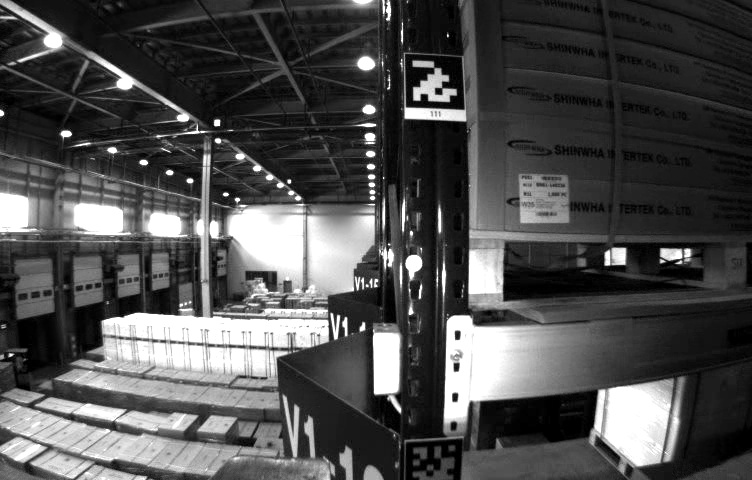True Barcode: (517, 172, 572, 225)
